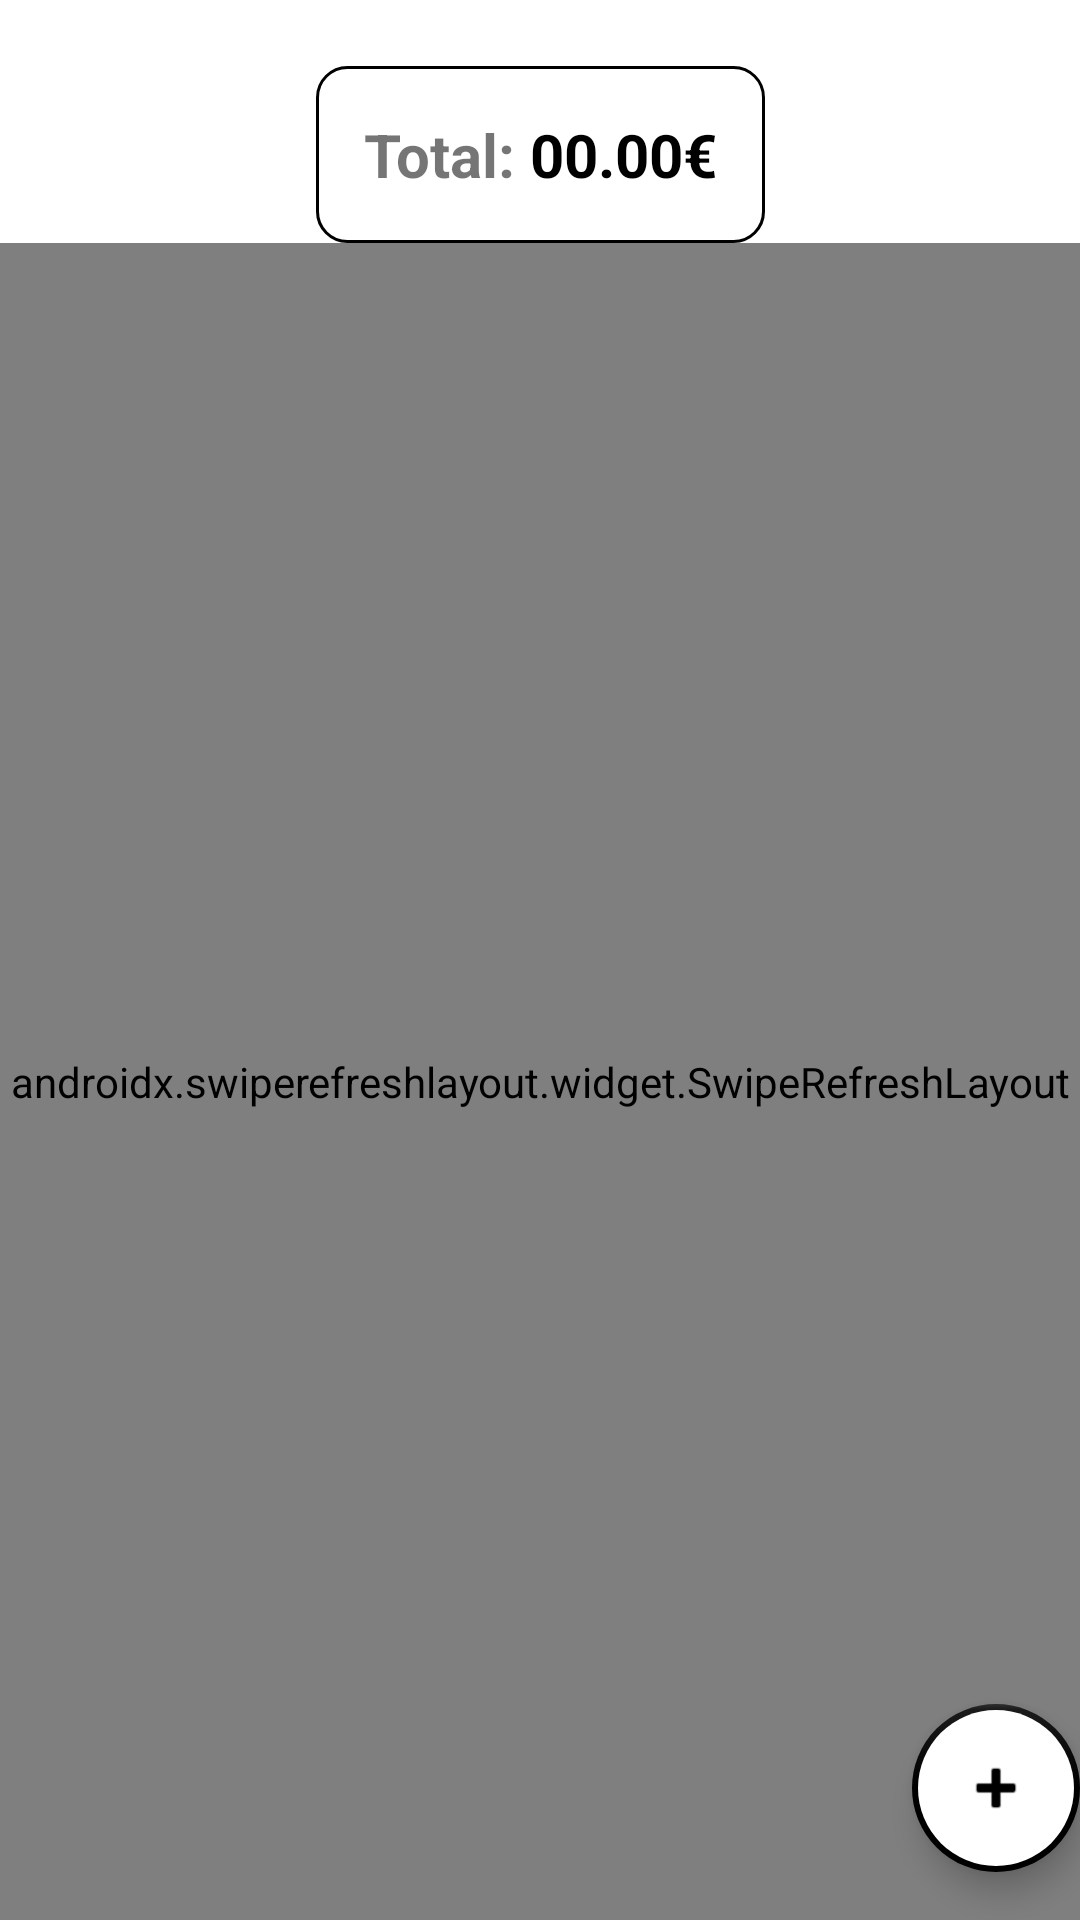

Where icons sit on this 1080px x 1920px app screen, as (x1, y1, x2, y2):
Creates a category: (912, 1704, 1080, 1872)
